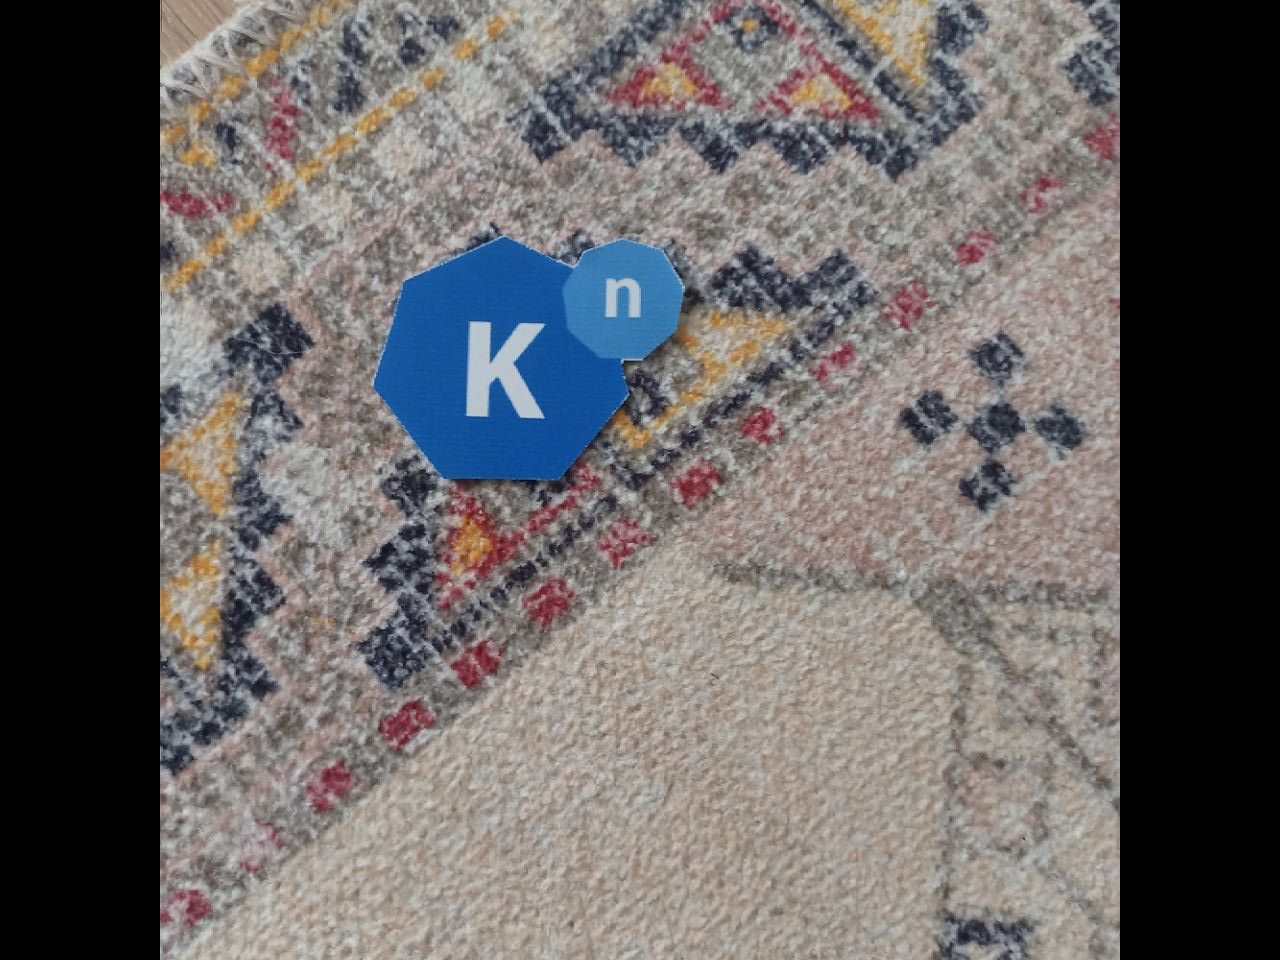knative: (370, 235, 687, 486)
